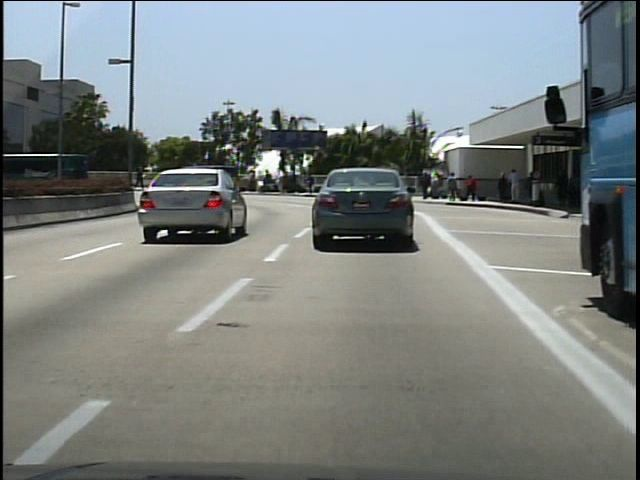person: (507, 167, 523, 206), (463, 171, 480, 205), (495, 171, 511, 205), (525, 169, 540, 205), (134, 161, 149, 194), (447, 169, 461, 203), (205, 169, 222, 194), (419, 171, 433, 201)
